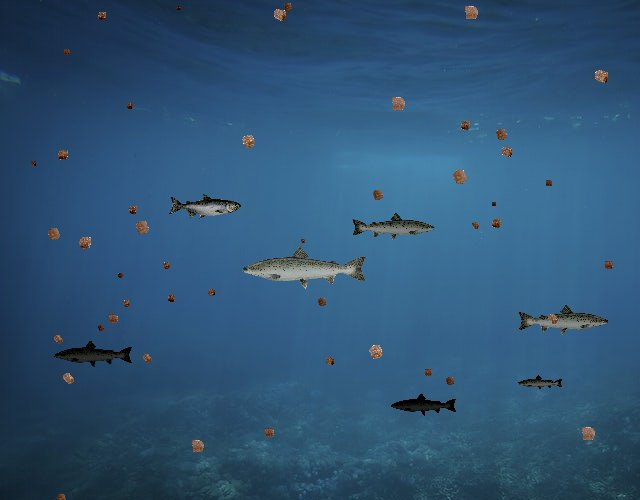Fish: (240, 244, 369, 290), (517, 304, 611, 338), (350, 211, 436, 242), (53, 339, 134, 368), (168, 193, 241, 219), (390, 392, 458, 417), (517, 374, 564, 391)
Pellet: (234, 127, 262, 155), (266, 1, 293, 28), (56, 366, 81, 391), (27, 158, 39, 170)
